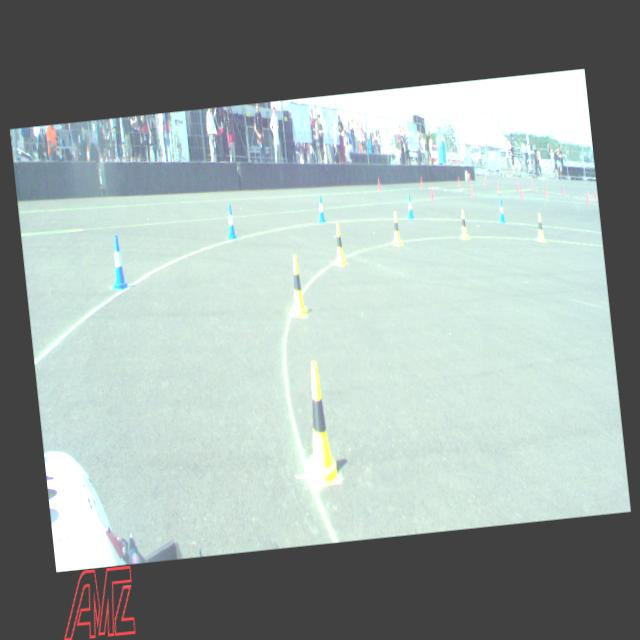blue_cone: (109, 234, 127, 289), (225, 204, 236, 239), (316, 195, 326, 222), (497, 200, 505, 222), (406, 194, 413, 218)
yellow_cone: (298, 360, 340, 485), (286, 254, 307, 316), (332, 222, 346, 266), (391, 211, 402, 245), (458, 208, 468, 240), (534, 212, 544, 242)
